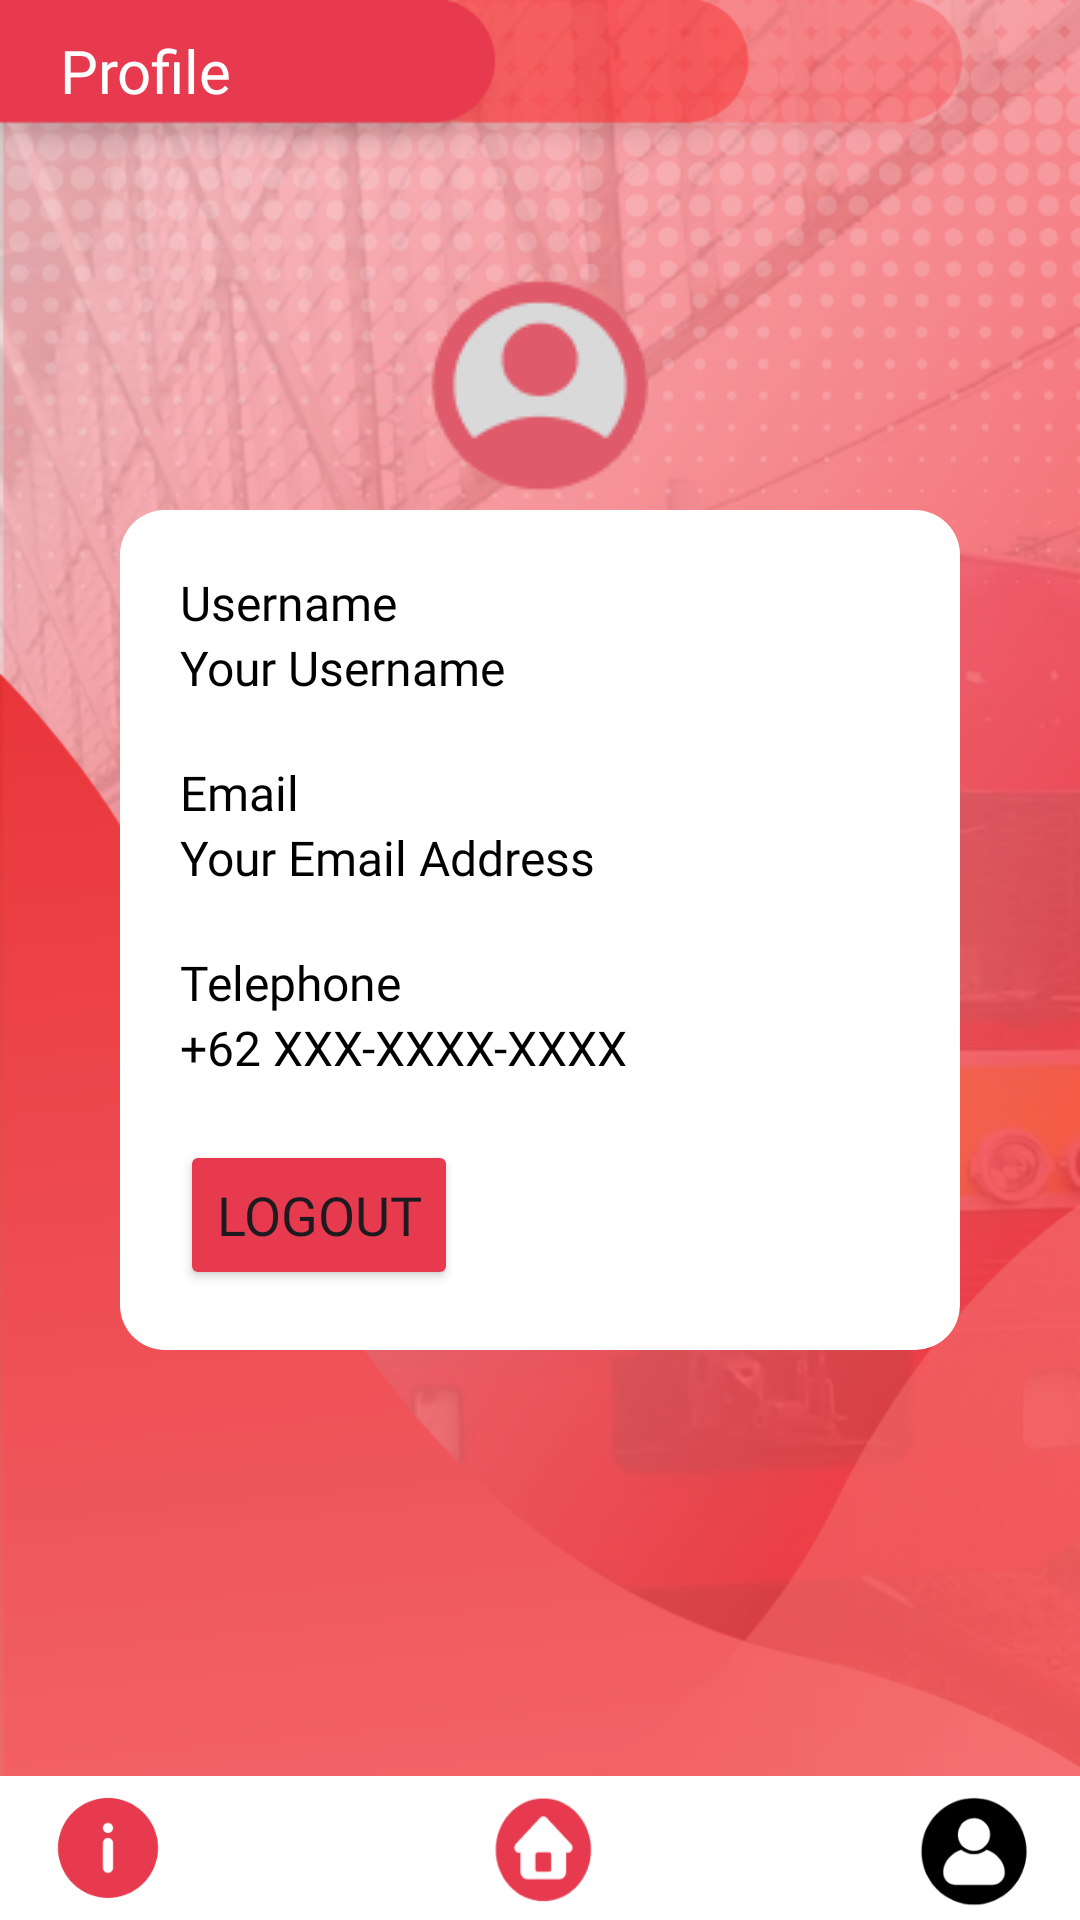

Where icons sit on this 1080*1920 app screen, as (x1, y1, x2, y2):
home: (495, 1798, 592, 1902)
info: (57, 1798, 159, 1898)
profil: (921, 1798, 1027, 1905)
